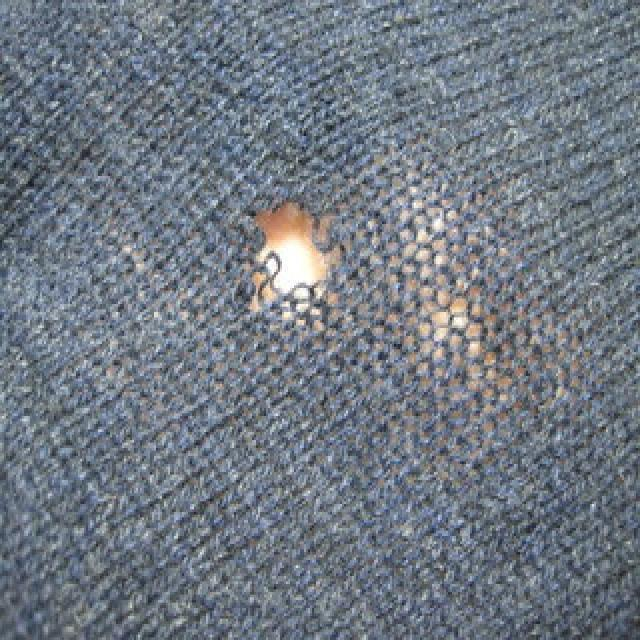Hole: (251, 202, 340, 320)
